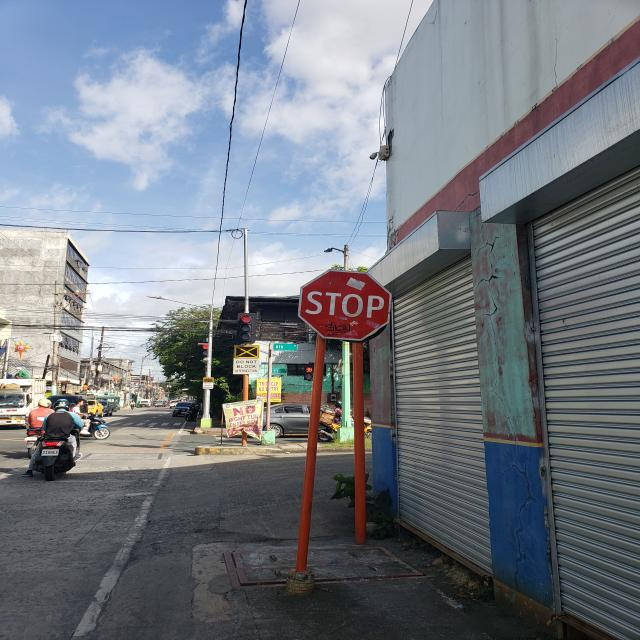stop-sign: (297, 269, 393, 341)
